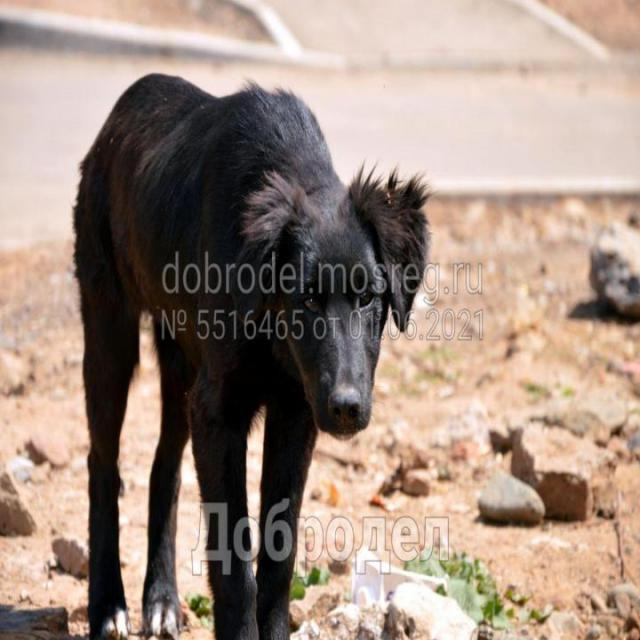dog: (66, 59, 433, 640)
